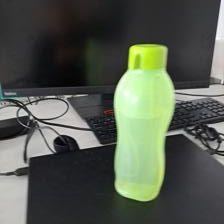bottle: (108, 41, 178, 204)
